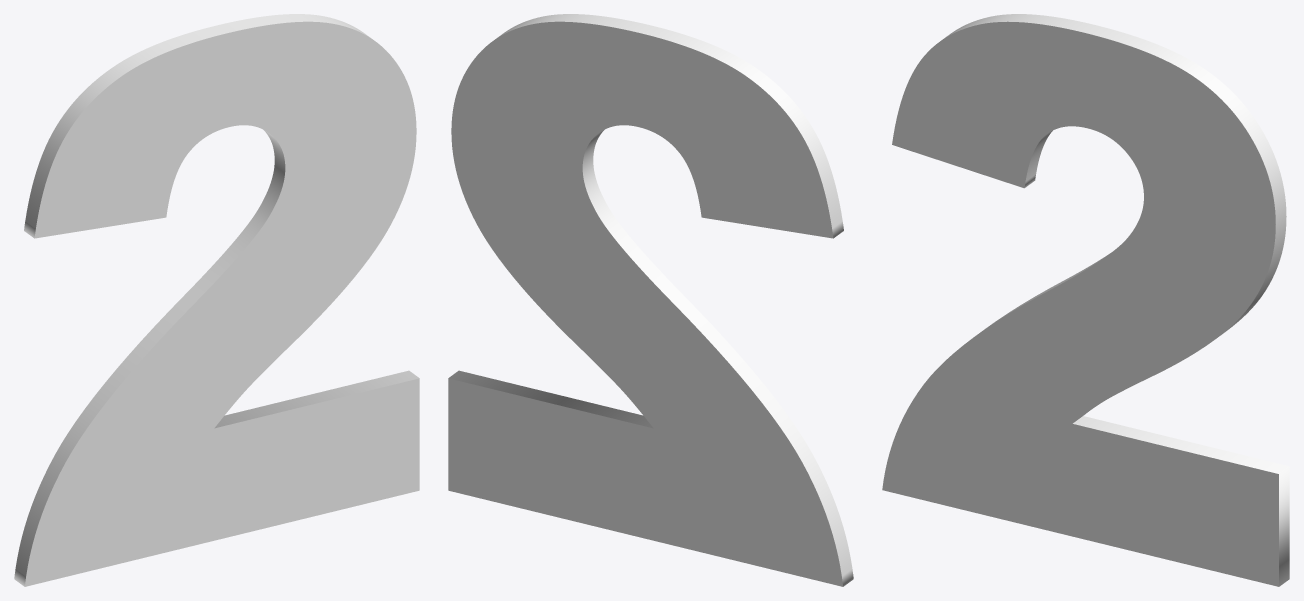
3 renders of one model, left to right at view 1: azimuth 30°, elevation 25°; view 2: azimuth 150°, elevation 25°; view 3: azimuth 330°, elevation 25°, orthographic.
Parts seen in each view (by area): view 1: テキスト; view 2: テキスト; view 3: テキスト.
Part boxes in pixels (bbox=[...]): テキスト: bbox=[14, 14, 419, 586]; テキスト: bbox=[448, 14, 853, 586]; テキスト: bbox=[882, 14, 1289, 586].
Size of the model in its own units: 0.4292 by 0.5237 by 0.02.
